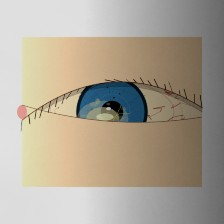corneal_ulcer: (76, 97, 130, 140)
